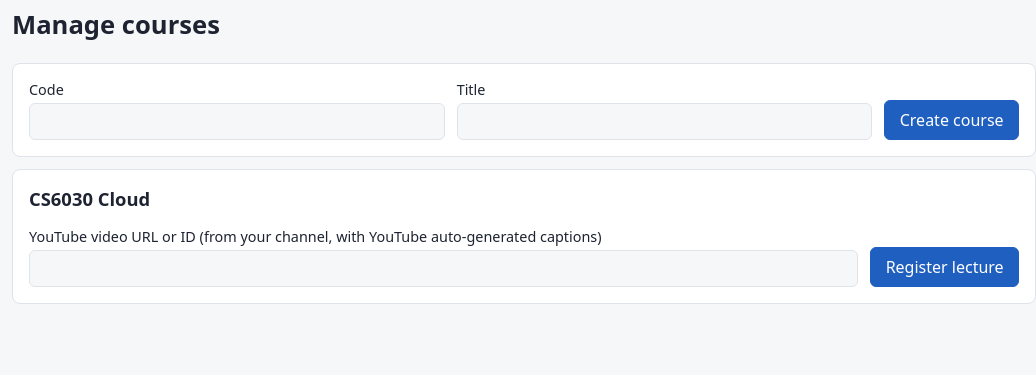
<ManagePage> › asks for YouTube access, then registers the lecture with that token
Type "https://youtu.be/abcdefghijk" into the field labelled "YouTube video URL" at (444,268), box [29, 250, 858, 287]
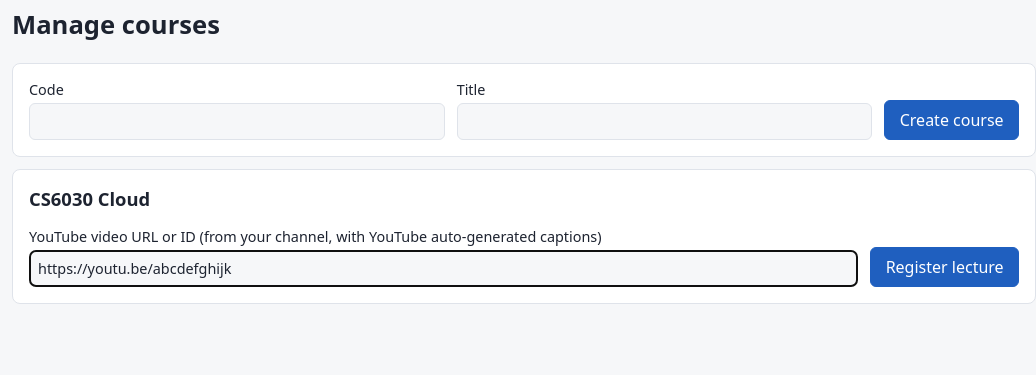
Click the button "Register lecture" at (945,267), box [870, 247, 1019, 287]
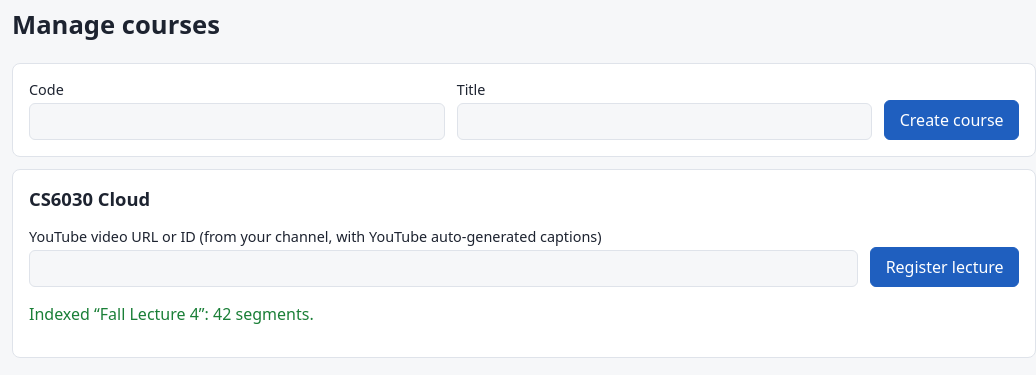
expect the message reads "Indexed “Fall Lecture 4”: 42 segments.": met, box [29, 303, 314, 325]
